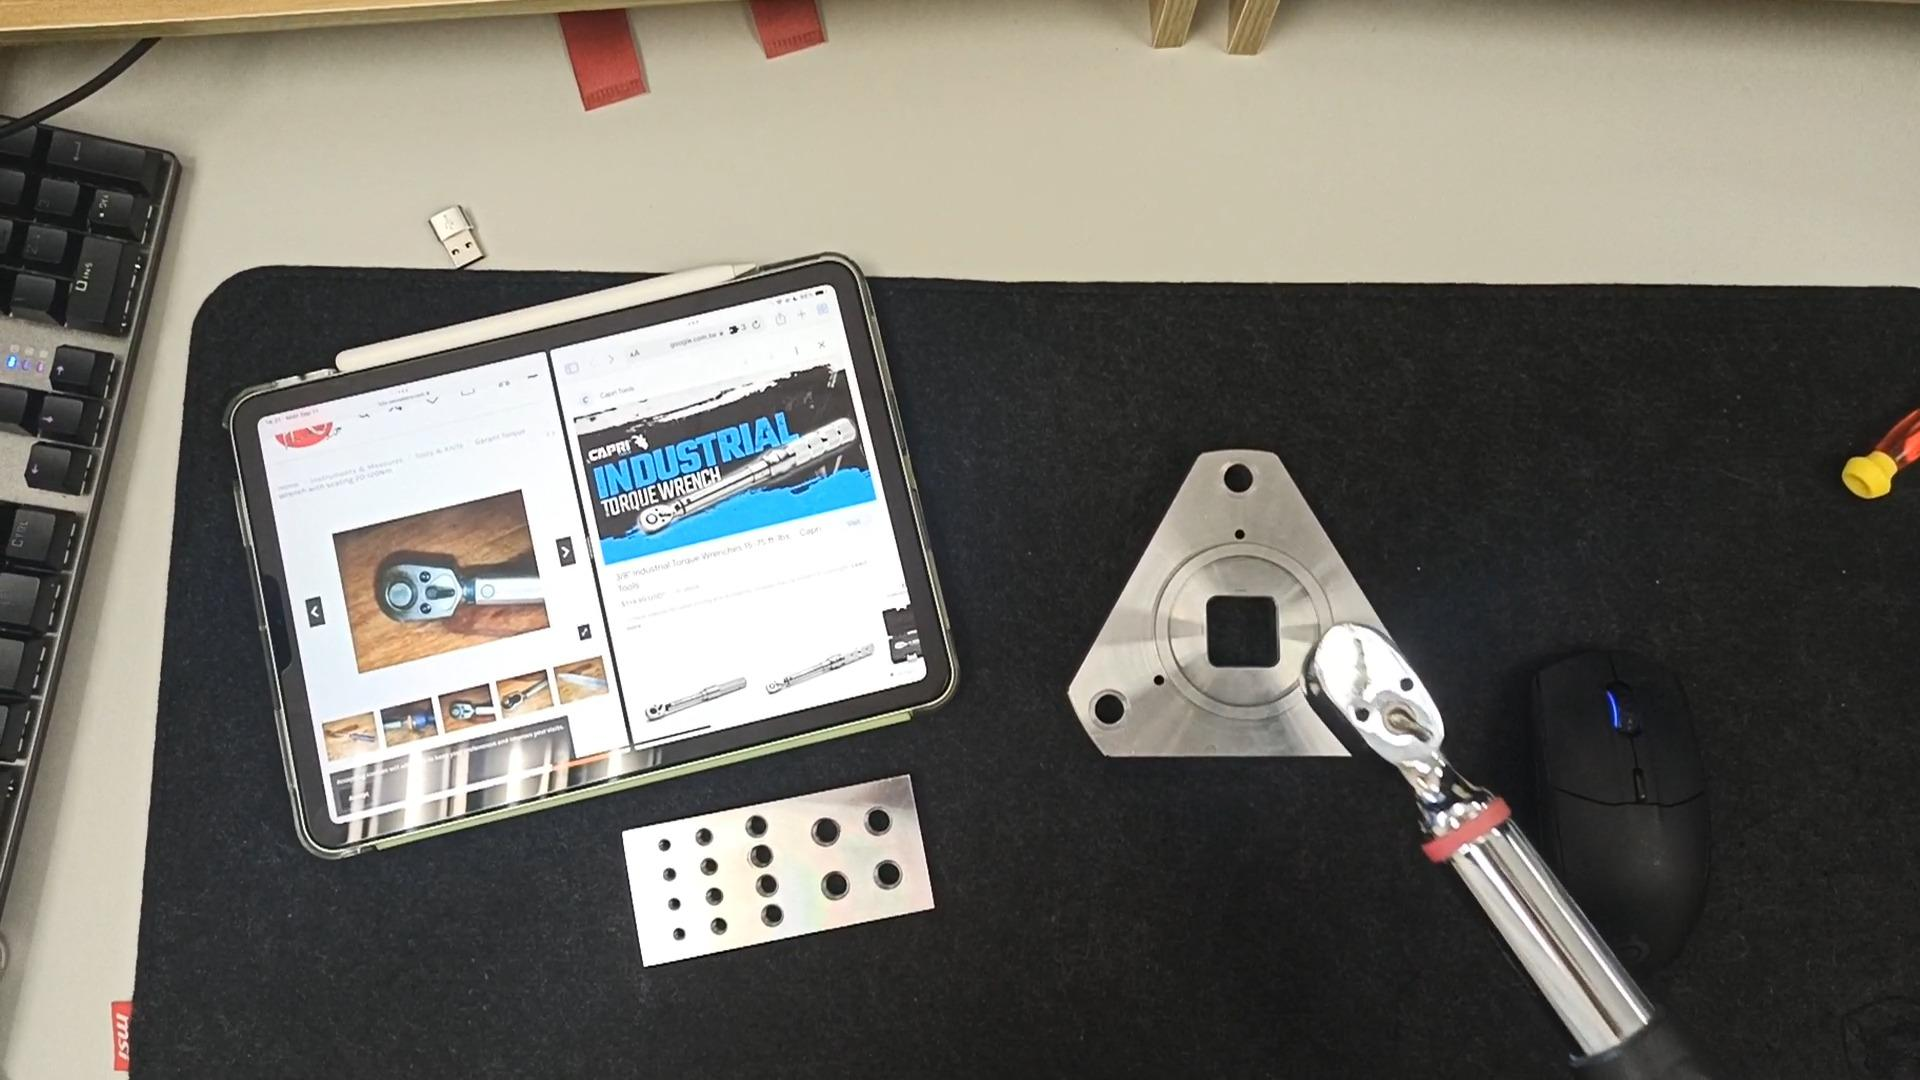Tool: (1302, 626, 1478, 815), (372, 554, 472, 630), (640, 501, 674, 531)
hole: (1201, 462, 1267, 506), (853, 860, 911, 899), (1077, 695, 1133, 736), (841, 810, 901, 847), (807, 868, 860, 902), (794, 816, 847, 849), (735, 847, 781, 874), (752, 874, 799, 901), (729, 814, 774, 841), (754, 907, 800, 934), (691, 858, 731, 881), (684, 825, 724, 847), (696, 889, 732, 909), (699, 919, 732, 938), (650, 840, 682, 858), (657, 866, 688, 885), (659, 899, 690, 916), (669, 920, 688, 943)
